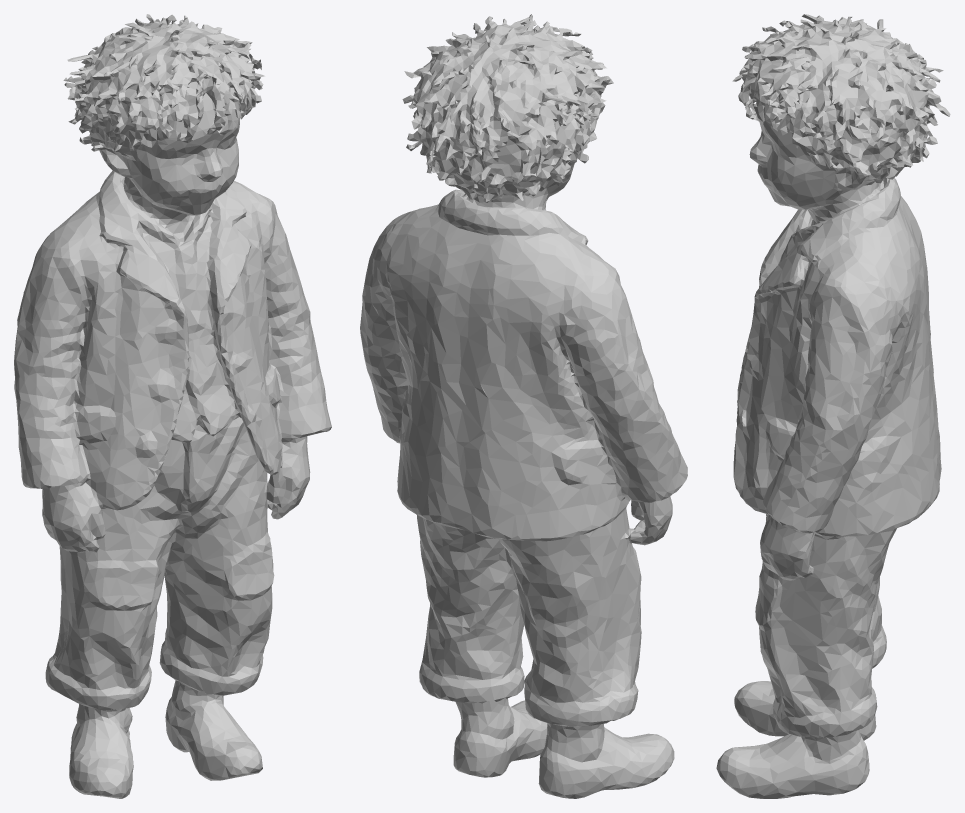
The model's file is Jongetje1.glb.
3 views of the same model, side by side, from view 1: azimuth 30°, elevation 25°; view 2: azimuth 150°, elevation 25°; view 3: azimuth 270°, elevation 25° (orthographic). The views are drawn at different scales.
Visible parts, largest first — view 1: Epic Borwo-Uusam; view 2: Epic Borwo-Uusam; view 3: Epic Borwo-Uusam.
Boxes of the visible parts, x1,y1,x2,y2 form: Epic Borwo-Uusam: (14,14,331,798); Epic Borwo-Uusam: (360,14,687,798); Epic Borwo-Uusam: (716,14,950,798).
Bounding box in the file's own units: 0.83 × 1.96 × 0.5536.
Materials: 1 (1 with a texture image).
